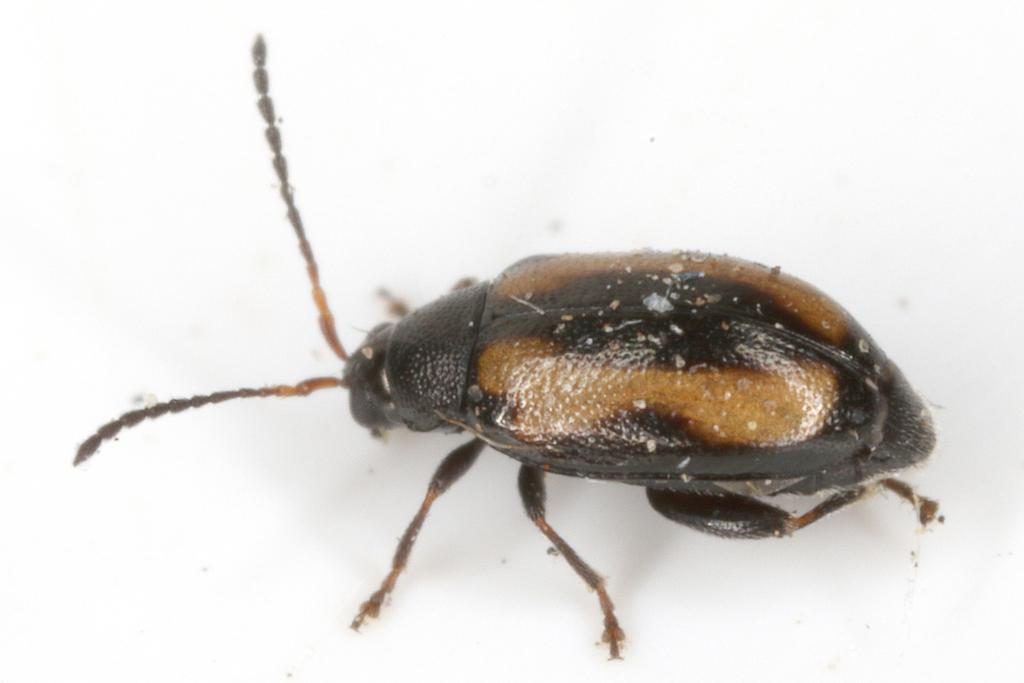flea_beetle: (3, 0, 1024, 683)
